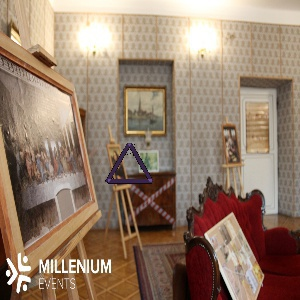triangle: (103, 140, 157, 190)
